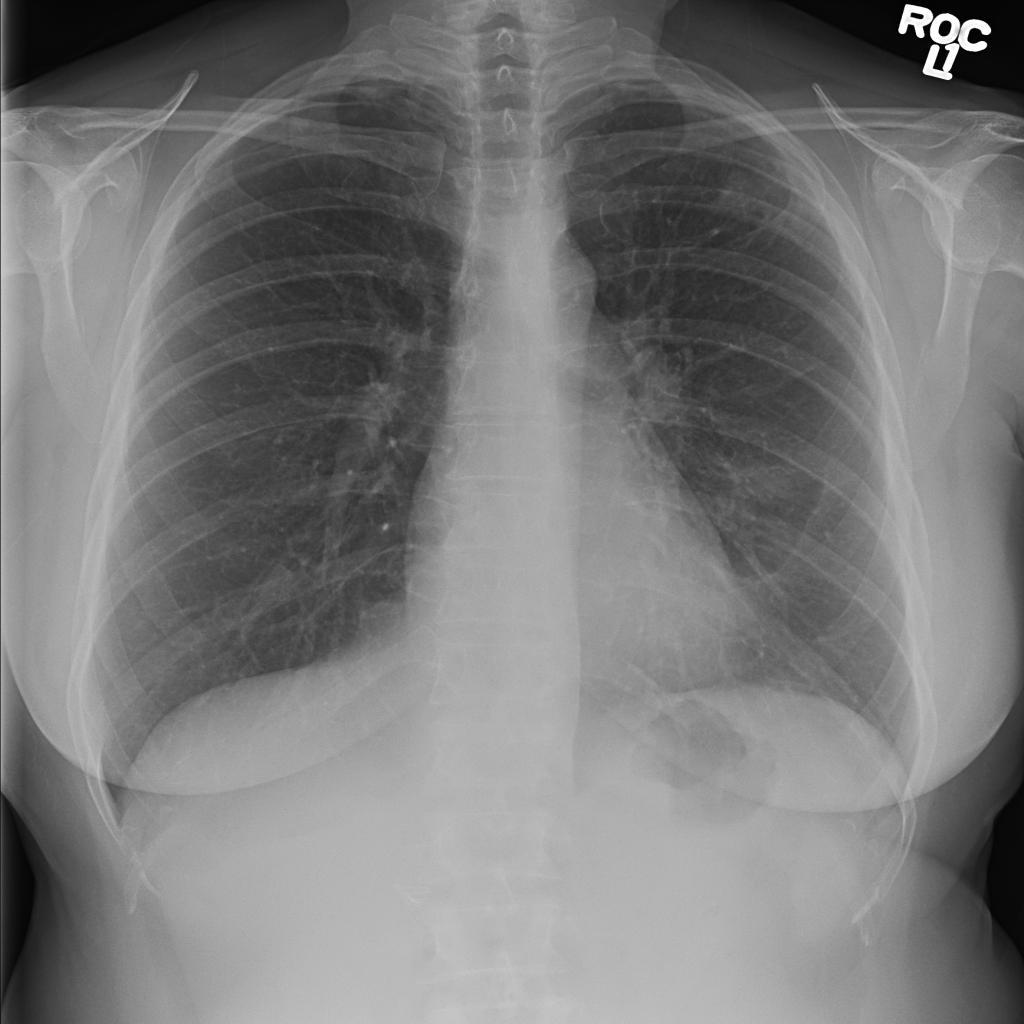Nodule: (425, 225, 474, 263)
